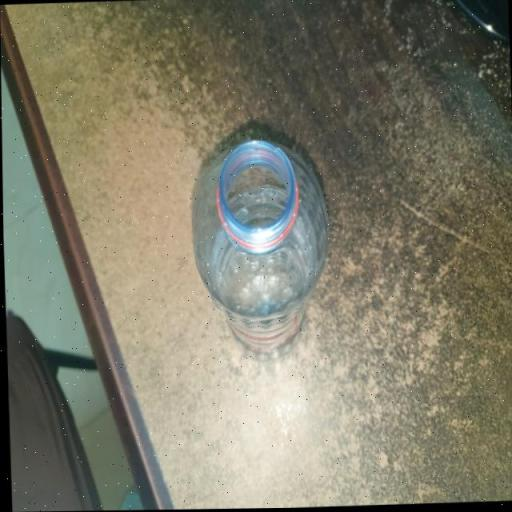plastic: (181, 129, 336, 359)
